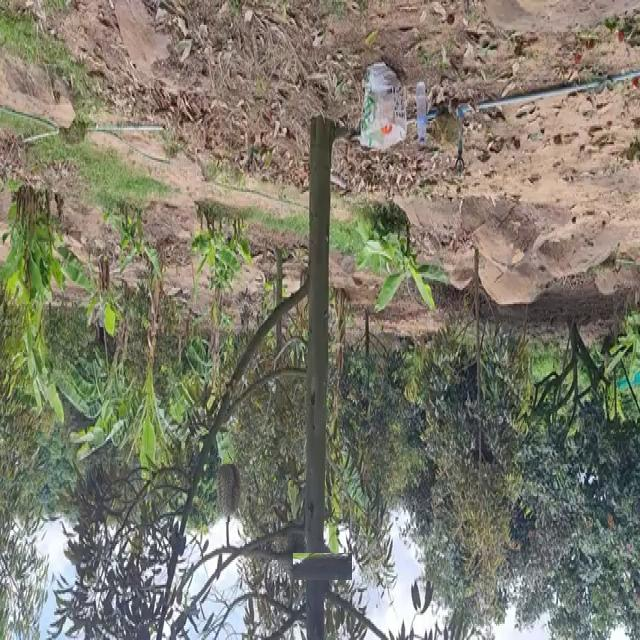durian: (210, 458, 248, 522), (273, 523, 308, 586), (300, 545, 344, 588)
